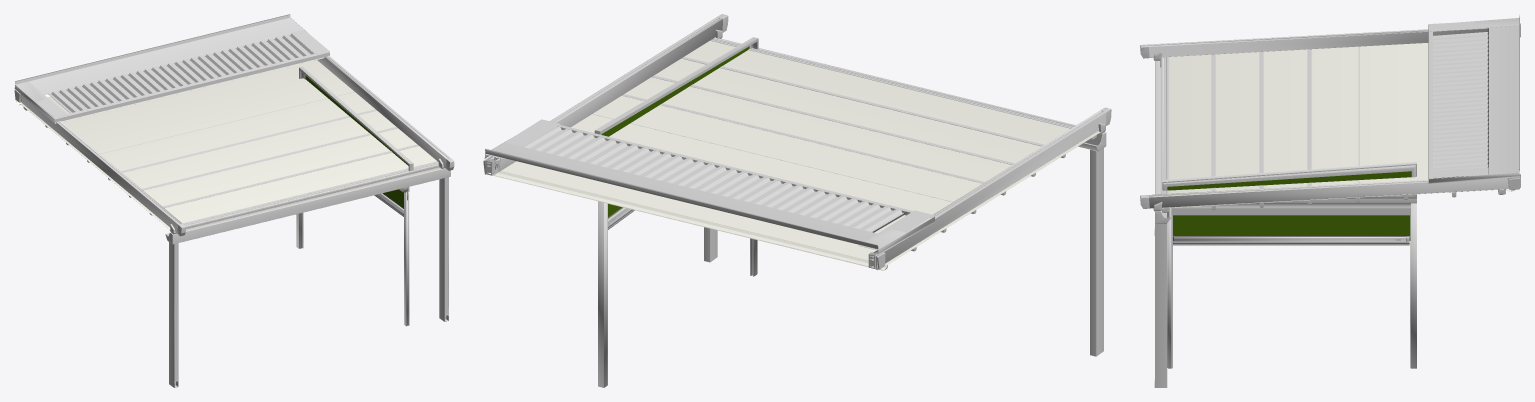
File: flag_1111.fbx
3 views of the same model, side by side, from view 1: azimuth 30°, elevation 25°; view 2: azimuth 150°, elevation 25°; view 3: azimuth 270°, elevation 25° (orthographic). The views are drawn at different scales.
Visible parts, largest first — view 1: Telo, Tettuccio, Trave, Guida.001, Guida, Frangivento_Iniziale_Finale, Montante.001, Skipper, Montante, Timpano, Frangivento_pos_1, Frangivento_pos_2 (+2 smaller); view 2: Telo, Tettuccio, Guida.001, Guida, Montante.001, Timpano, Pilastrino_intermedio, Frangivento_Iniziale_Finale, Frangivento_pos_1, Frangivento_pos_2, Frangivento_pos_3, Trave (+3 smaller); view 3: Telo, Tettuccio, Skipper, Guida, Guida.001, Timpano, Montante, Frangivento_Iniziale_Finale, Trave, Pilastrino_intermedio, Frangivento_pos_1, Frangivento_pos_2 (+4 smaller).
Boxes of the visible parts, x1,y1,x2,y2 form: Telo: [16, 60, 438, 231]; Tettuccio: [14, 14, 329, 123]; Trave: [165, 167, 450, 244]; Guida.001: [21, 95, 185, 236]; Guida: [317, 55, 454, 170]; Frangivento_Iniziale_Finale: [169, 161, 439, 230]; Montante.001: [169, 242, 178, 387]; Skipper: [300, 187, 409, 326]; Montante: [439, 177, 448, 321]; Timpano: [299, 66, 413, 171]; Frangivento_pos_1: [149, 144, 418, 215]; Frangivento_pos_2: [128, 127, 397, 197]; Telo: [493, 40, 1101, 270]; Tettuccio: [484, 125, 934, 254]; Guida.001: [870, 107, 1111, 266]; Guida: [487, 14, 728, 174]; Montante.001: [1090, 148, 1103, 356]; Timpano: [594, 37, 758, 136]; Pilastrino_intermedio: [598, 201, 607, 387]; Frangivento_Iniziale_Finale: [710, 37, 1096, 139]; Frangivento_pos_1: [681, 57, 1065, 158]; Frangivento_pos_2: [652, 75, 1035, 176]; Frangivento_pos_3: [622, 94, 1006, 195]; Trave: [721, 38, 1106, 151]; Telo: [1161, 43, 1515, 208]; Tettuccio: [1428, 14, 1519, 183]; Skipper: [1167, 203, 1410, 368]; Guida: [1140, 178, 1508, 208]; Guida.001: [1140, 28, 1487, 58]; Timpano: [1162, 162, 1416, 198]; Montante: [1154, 223, 1167, 387]; Frangivento_Iniziale_Finale: [1161, 57, 1169, 212]; Trave: [1155, 60, 1171, 223]; Pilastrino_intermedio: [1411, 203, 1416, 368]; Frangivento_pos_1: [1211, 54, 1215, 209]; Frangivento_pos_2: [1259, 51, 1263, 207].
Bounding box in the file's own units: 405 × 265 × 417.
